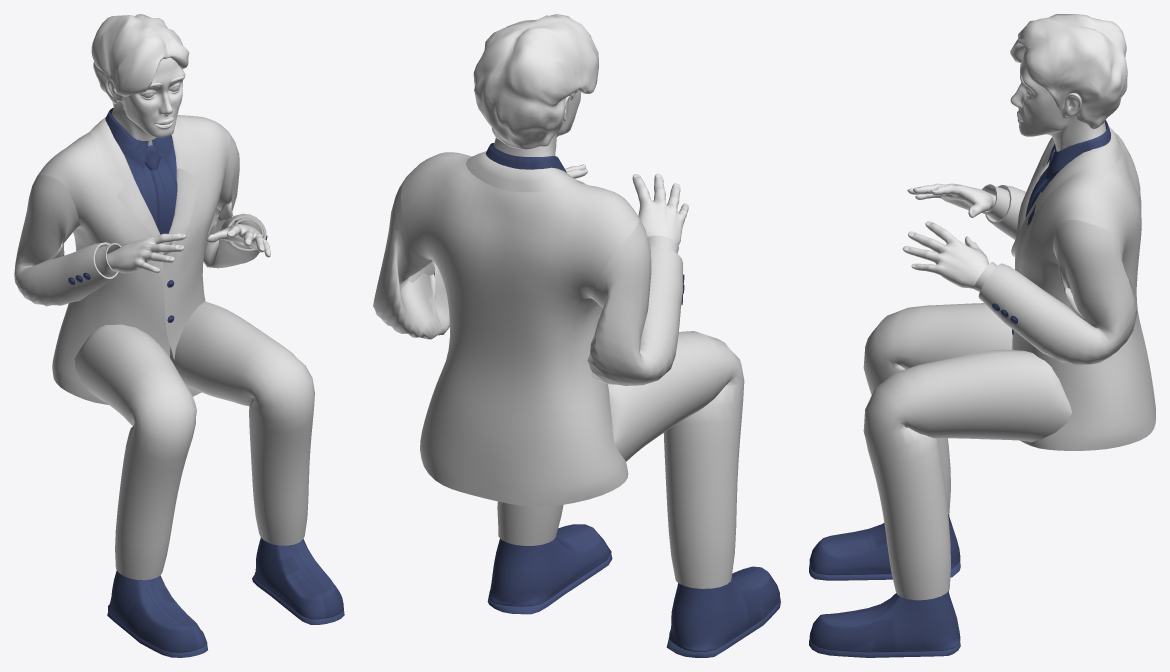
Rendered from YuraSeated.fbx.
The picture shows the model from 3 angles, left to right: view 1: azimuth 30°, elevation 25°; view 2: azimuth 150°, elevation 25°; view 3: azimuth 270°, elevation 25°; orthographic projection. The views are drawn at different scales.
Visible parts, largest first — view 1: shtani, pidzak, shtani.001, Hair.001, Human, Human.002, shirt, shirt.001; view 2: pidzak, shtani, shtani.001, Hair.001, Human.002, Human, shirt; view 3: pidzak, shtani, shtani.001, Hair.001, Human.002, Human, shirt.
Part boxes in pixels (bbox=[...]): shtani: bbox=[74, 301, 314, 580]; pidzak: bbox=[14, 115, 266, 404]; shtani.001: bbox=[107, 537, 344, 657]; Hair.001: bbox=[91, 14, 189, 107]; Human: bbox=[107, 57, 185, 145]; Human.002: bbox=[106, 224, 270, 273]; shirt: bbox=[105, 107, 177, 226]; shirt.001: bbox=[144, 145, 170, 234]; pidzak: bbox=[373, 151, 683, 506]; shtani: bbox=[497, 331, 744, 588]; shtani.001: bbox=[487, 524, 780, 657]; Hair.001: bbox=[473, 14, 598, 149]; Human.002: bbox=[565, 164, 688, 245]; Human: bbox=[493, 92, 580, 157]; shirt: bbox=[485, 143, 566, 172]; pidzak: bbox=[974, 126, 1155, 450]; shtani: bbox=[863, 303, 1071, 600]; shtani.001: bbox=[809, 514, 960, 657]; Hair.001: bbox=[1010, 14, 1127, 129]; Human.002: bbox=[902, 183, 995, 288]; Human: bbox=[1010, 50, 1106, 151]; shirt: bbox=[1027, 120, 1110, 225].
Size of the model in its own units: 60.66 by 135 by 72.24.
